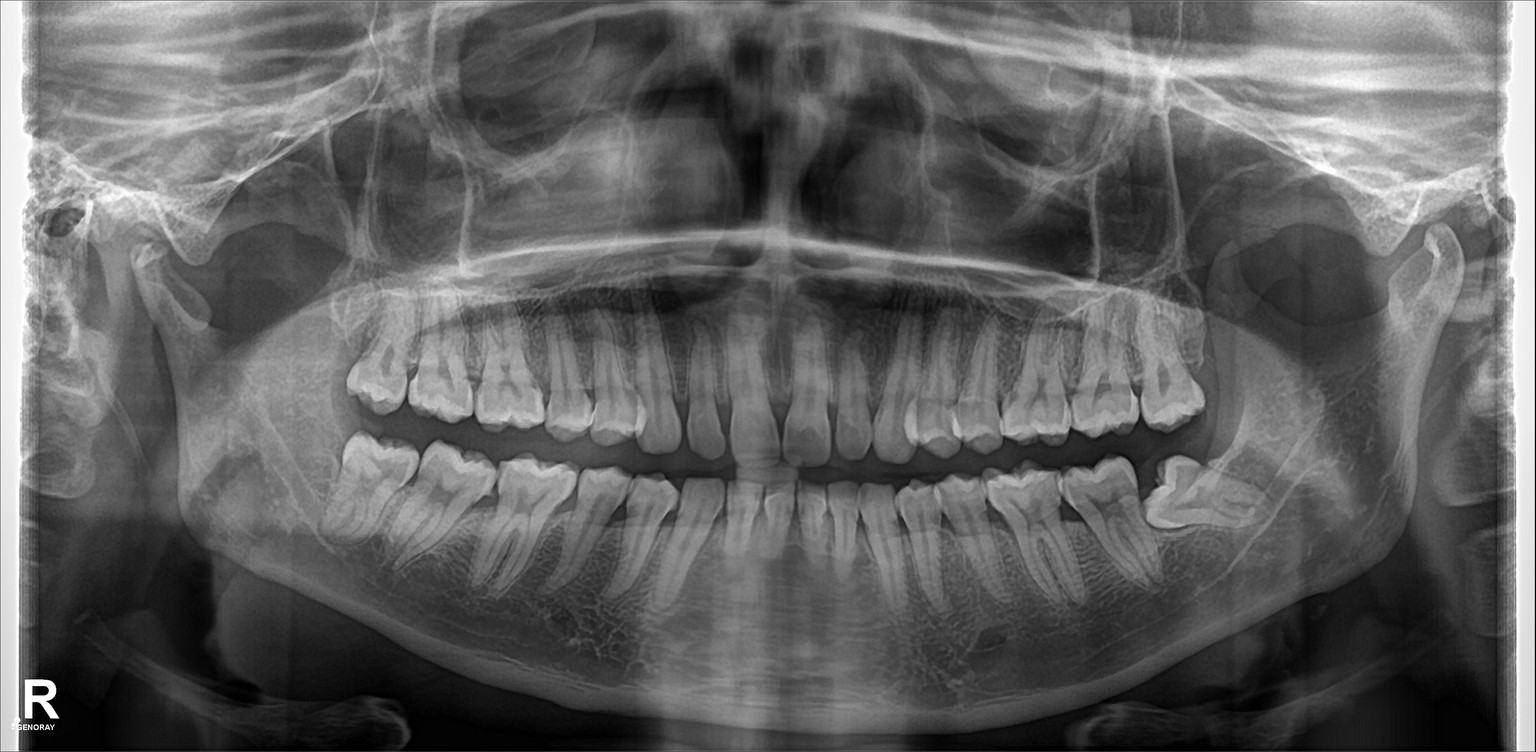Dental Caries: (786, 423, 822, 457)
Impacted Third Molar: (1162, 456, 1269, 533)
Missing Tooth: (1186, 320, 1237, 399)
